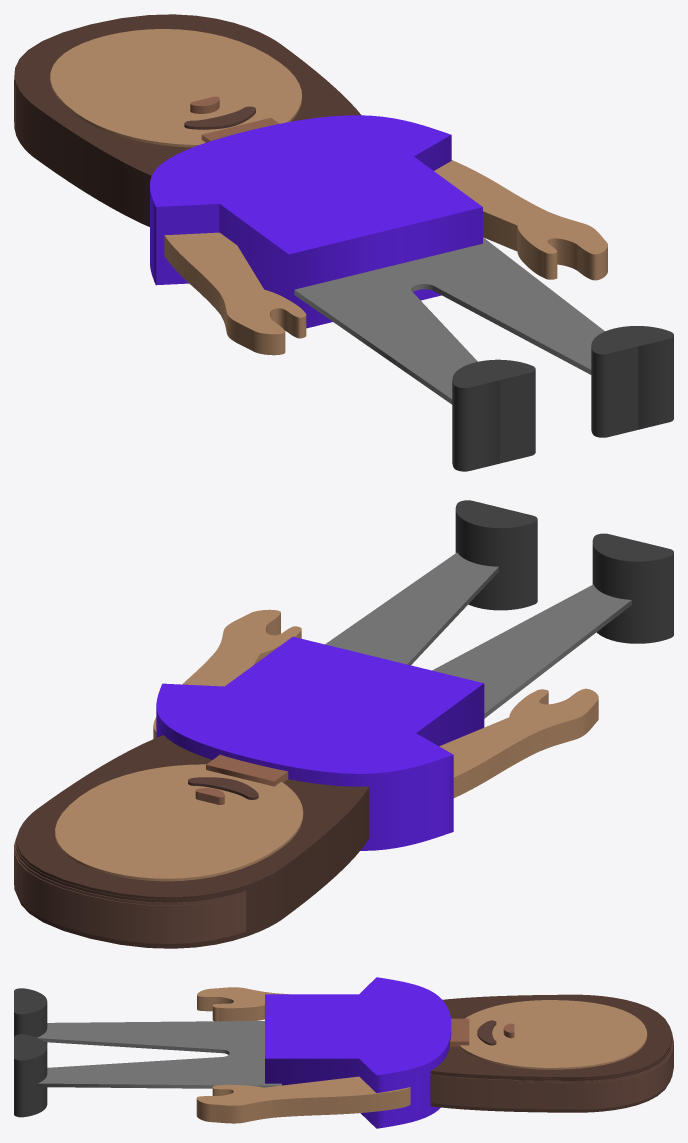
File: emoji_u1f9cd_1f3fd_200d_2640.glb
The picture shows the model from 3 angles, top to bottom: view 1: azimuth 30°, elevation 25°; view 2: azimuth 150°, elevation 25°; view 3: azimuth 270°, elevation 25°; orthographic projection. The views are drawn at different scales.
Parts seen in each view (by area): view 1: emoji_u1f9cd_1f3fd_200d_2640; view 2: emoji_u1f9cd_1f3fd_200d_2640; view 3: emoji_u1f9cd_1f3fd_200d_2640.
Part boxes in pixels (<box>): emoji_u1f9cd_1f3fd_200d_2640: <box>14,14,673,471</box>; emoji_u1f9cd_1f3fd_200d_2640: <box>14,500,673,948</box>; emoji_u1f9cd_1f3fd_200d_2640: <box>14,977,673,1128</box>.
Bounding box in the file's own units: 0.0145 × 0.0032 × 0.0337.
